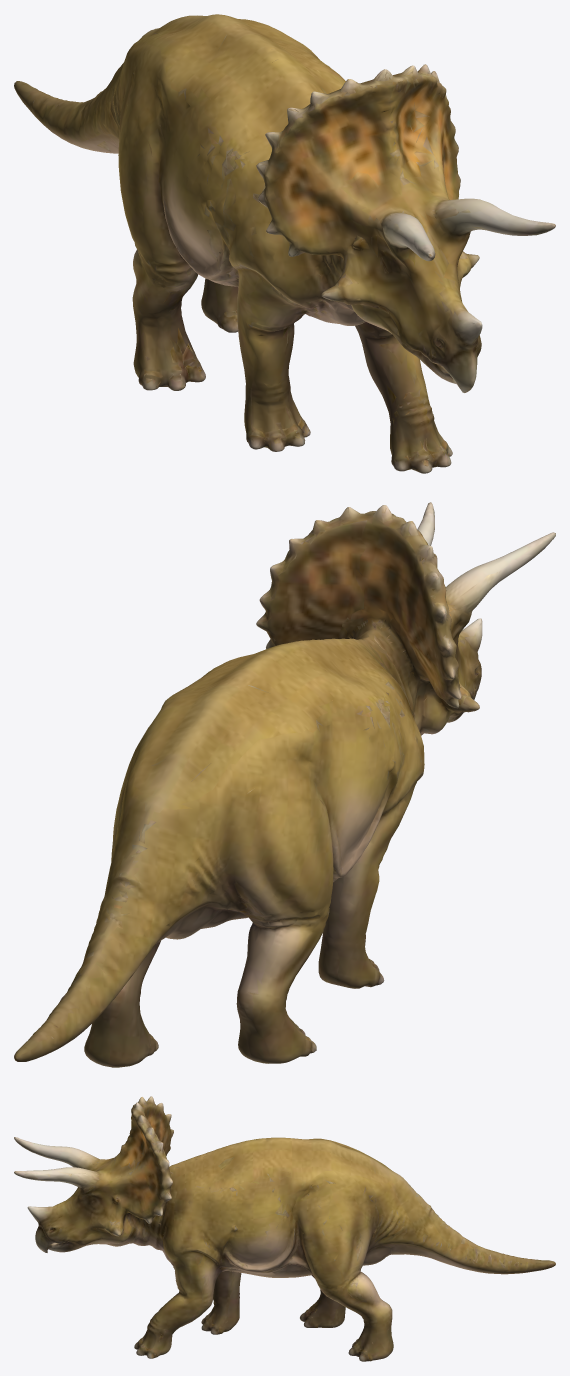
The model's file is trike.glb.
3 renders of one model, top to bottom at view 1: azimuth 30°, elevation 25°; view 2: azimuth 150°, elevation 25°; view 3: azimuth 270°, elevation 25°, orthographic. The views are drawn at different scales.
Parts seen in each view (by area): view 1: Mesh_0; view 2: Mesh_0; view 3: Mesh_0.
Part boxes in pixels (x1,y1,x2,y2): Mesh_0: (14,14,555,473); Mesh_0: (14,502,555,1067); Mesh_0: (14,1096,555,1361).
Size of the model in its own units: 0.4514 by 0.9093 by 1.9.
1 material, 1 textured.
